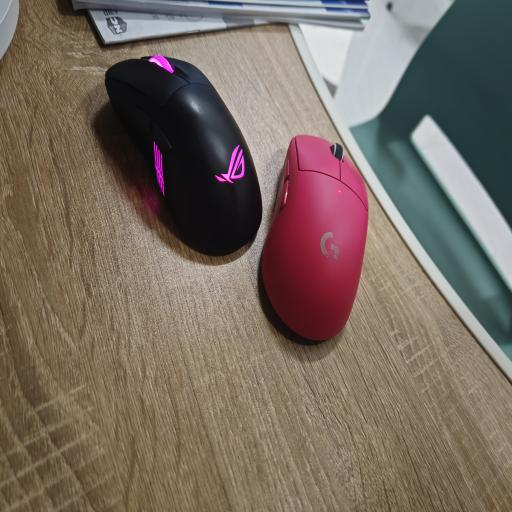mouse: (105, 56, 262, 254), (262, 135, 368, 340)
